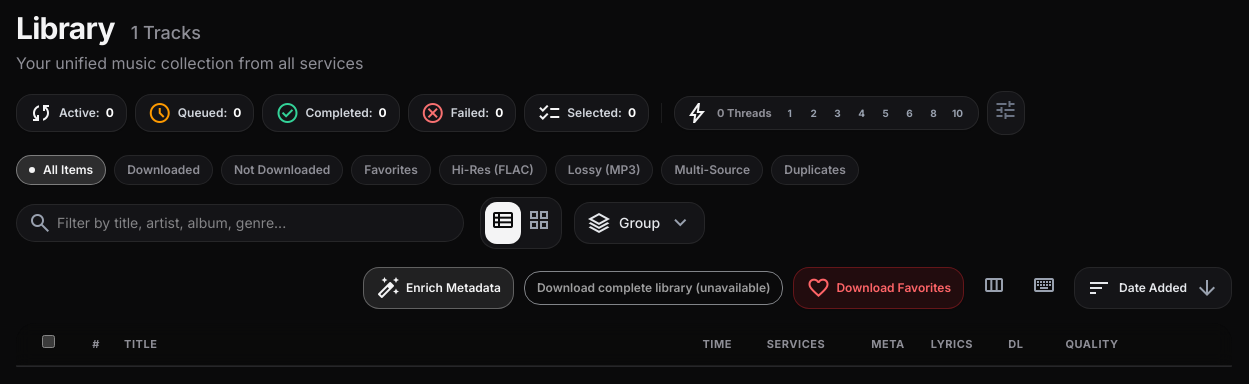
Scenario: LibraryView — canal enrichment-progress compartido (auditoría 60) › muestra el contador real de MusicBrainz
Step 1. Click the button titled "Enrich metadata using MusicBrainz" → [438, 288], box [363,267,514,309]
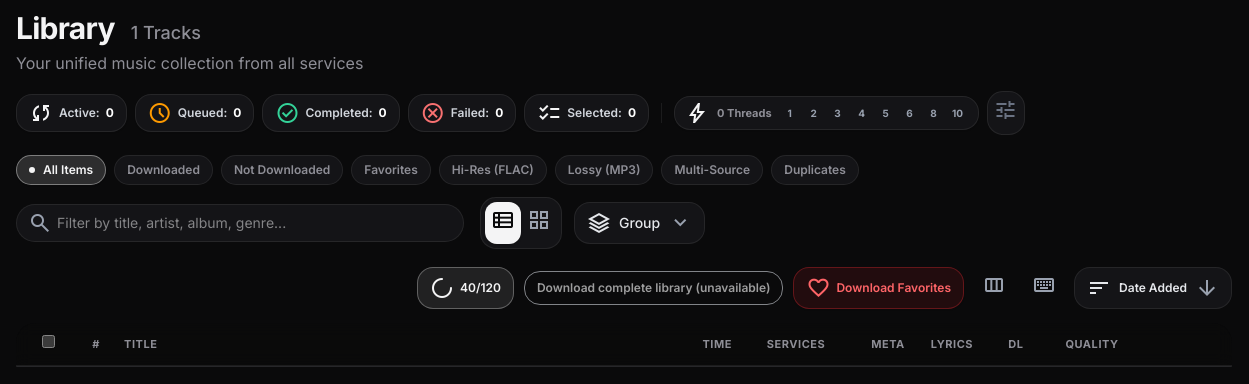
Expected: the button titled "Enrich metadata using MusicBrainz" reads "40/120", [417,267,514,309]
